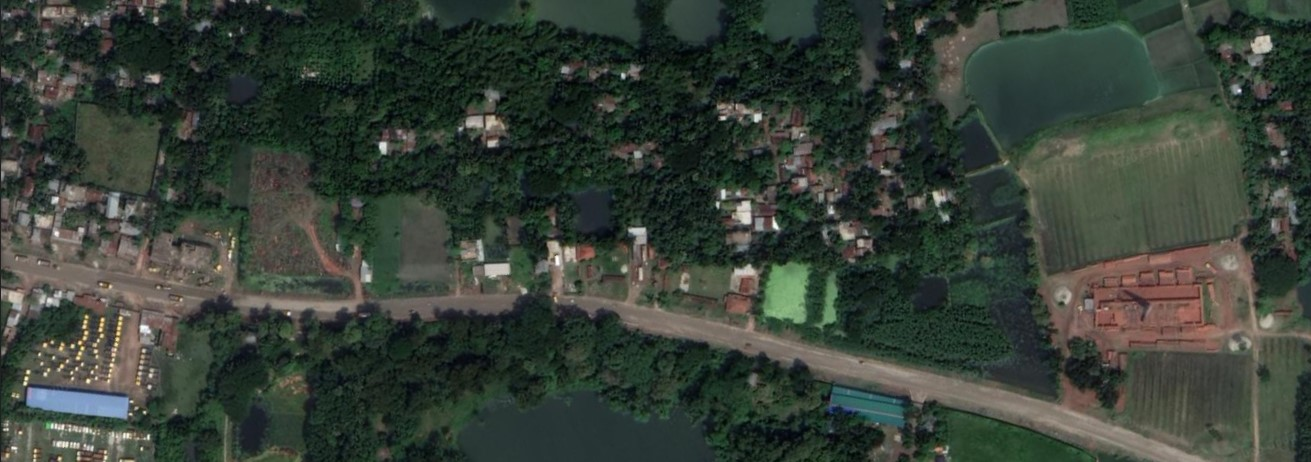kiln: (1082, 249, 1238, 345)
